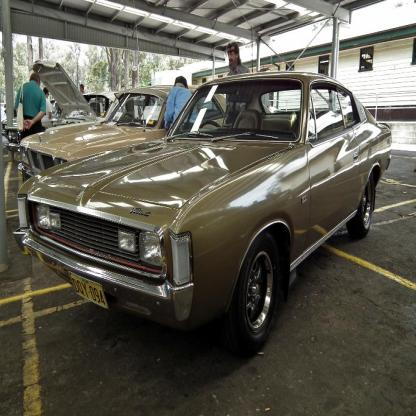Car: (1, 59, 392, 355)
